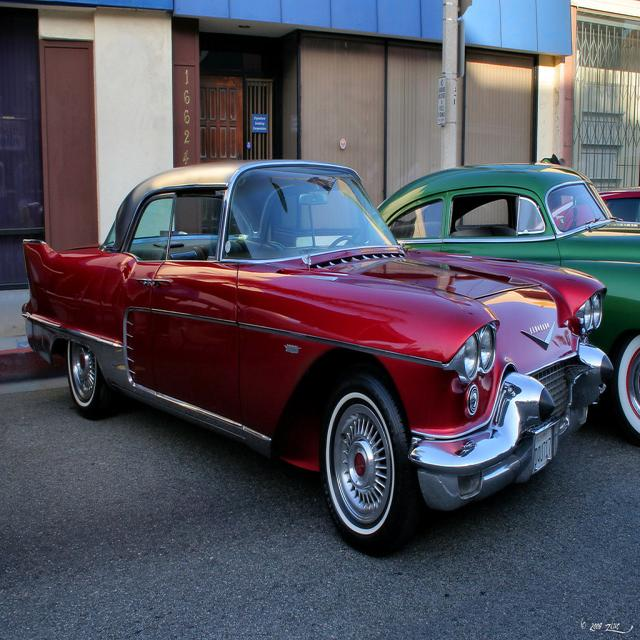car: (18, 152, 618, 572)
